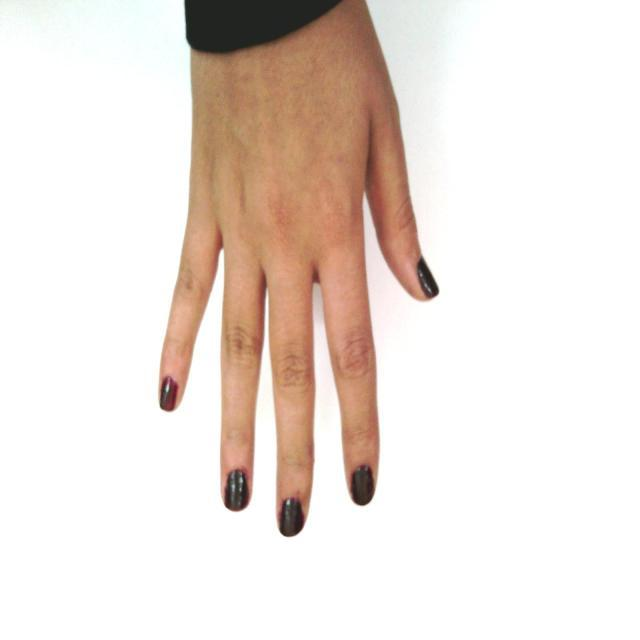Fingernail: (226, 470, 247, 511), (280, 498, 302, 537), (352, 466, 373, 505), (418, 259, 439, 296), (160, 377, 177, 411)
